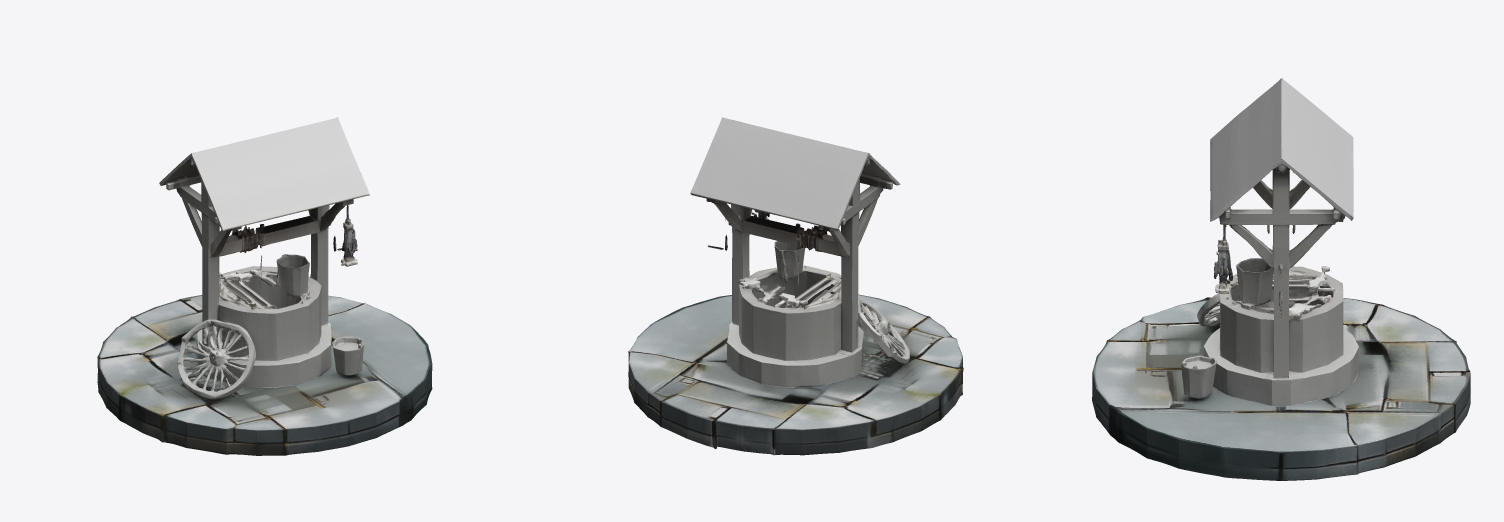
The model's file is editformer.glb.
The picture shows the model from 3 angles, left to right: view 1: azimuth 30°, elevation 25°; view 2: azimuth 150°, elevation 25°; view 3: azimuth 270°, elevation 25°; orthographic projection. The views are drawn at different scales.
Visible parts, largest first — view 1: world; view 2: world; view 3: world.
Boxes of the visible parts, x1,y1,x2,y2 form: world: [97, 117, 432, 455]; world: [628, 117, 963, 455]; world: [1092, 78, 1470, 480].
Bounding box in the file's own units: 1.1 × 0.9294 × 1.1.
2 materials, 1 textured.
